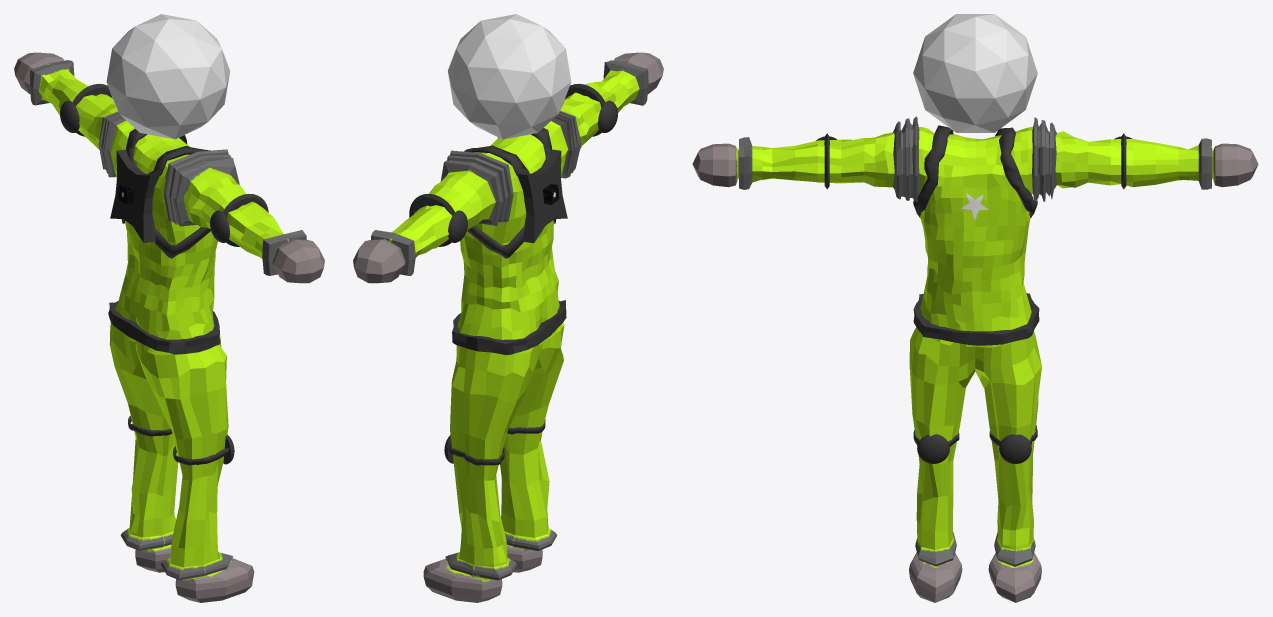
Rendered from PC No Skeleton.fbx.
3 renders of one model, left to right at view 1: azimuth 30°, elevation 25°; view 2: azimuth 150°, elevation 25°; view 3: azimuth 270°, elevation 25°, orthographic.
Visible parts, largest first — view 1: Player Body, Head Piece, Backpack, Belt, BackpackStrap2, Elbowguard Cap R, Elbowguard Cap L, Elbowguard R; view 2: Player Body, Head Piece, Backpack, Belt, BackpackStrap1, Elbowguard L, Elbowguard Cap L, Elbowguard Cap R, Elbowguard R; view 3: Player Body, Head Piece, Belt, BackpackStrap2, BackpackStrap1, Kneeguard Cap L, Kneeguaard Cap R.
Boxes of the visible parts, x1=… form: Player Body: x1=14, y1=52, x2=324, y2=602; Head Piece: x1=106, y1=14, x2=229, y2=139; Backpack: x1=110, y1=149, x2=159, y2=243; Belt: x1=108, y1=301, x2=220, y2=354; BackpackStrap2: x1=148, y1=145, x2=210, y2=258; Elbowguard Cap R: x1=210, y1=210, x2=229, y2=242; Elbowguard Cap L: x1=60, y1=100, x2=79, y2=132; Elbowguard R: x1=223, y1=194, x2=268, y2=246; Player Body: x1=353, y1=52, x2=663, y2=602; Head Piece: x1=448, y1=14, x2=571, y2=139; Backpack: x1=517, y1=149, x2=567, y2=243; Belt: x1=452, y1=300, x2=566, y2=355; BackpackStrap1: x1=464, y1=145, x2=529, y2=258; Elbowguard L: x1=409, y1=194, x2=454, y2=246; Elbowguard Cap L: x1=448, y1=210, x2=467, y2=242; Elbowguard Cap R: x1=598, y1=100, x2=617, y2=132; Elbowguard R: x1=565, y1=83, x2=605, y2=136; Player Body: x1=692, y1=116, x2=1258, y2=602; Head Piece: x1=913, y1=14, x2=1037, y2=132; Belt: x1=913, y1=293, x2=1039, y2=345; BackpackStrap2: x1=913, y1=125, x2=953, y2=218; BackpackStrap1: x1=995, y1=127, x2=1037, y2=218; Kneeguard Cap L: x1=999, y1=434, x2=1031, y2=463; Kneeguaard Cap R: x1=917, y1=434, x2=949, y2=463.
Size of the model in its own units: 36.34 by 168 by 153.
Materials: 5 (2 with a texture image).
